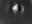person: (12, 5, 19, 17), (22, 6, 26, 17)
